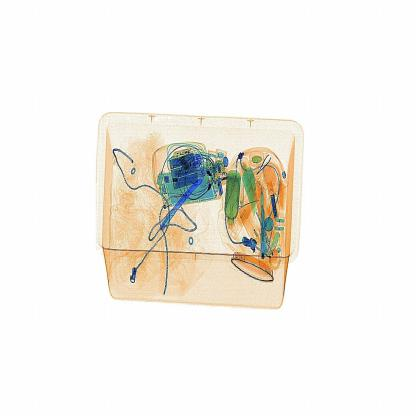pliers: (156, 183, 211, 242)
